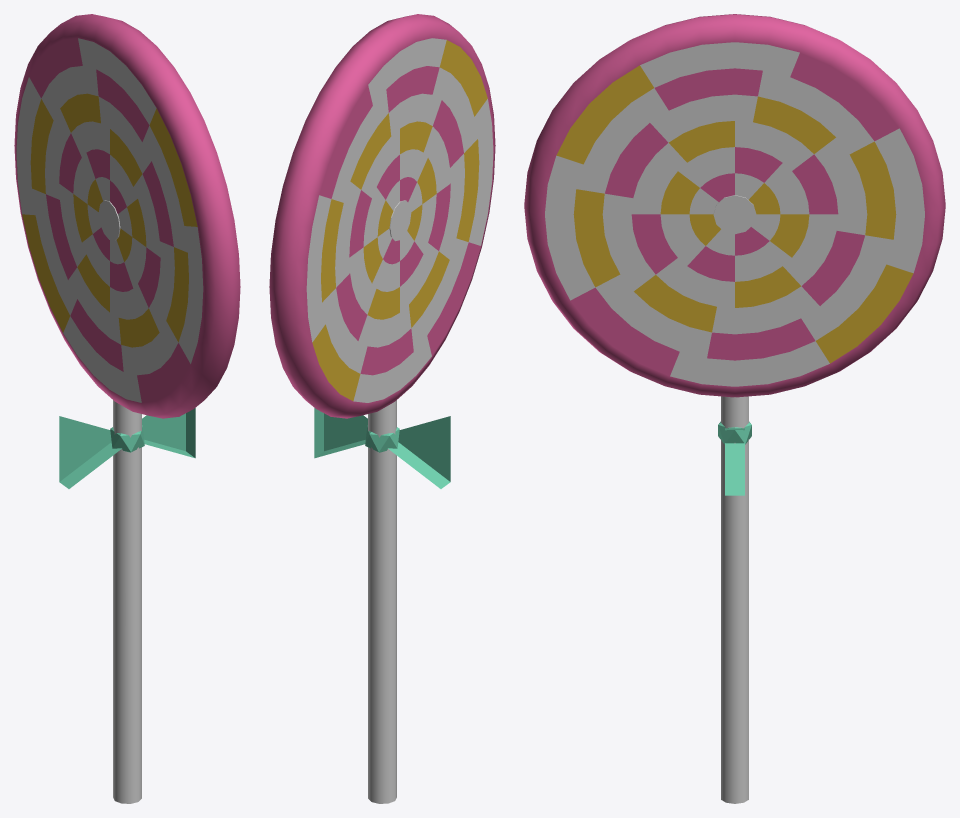
Rendered from candy_1.glb.
3 views of the same model, side by side, from view 1: azimuth 30°, elevation 25°; view 2: azimuth 150°, elevation 25°; view 3: azimuth 270°, elevation 25° (orthographic).
Visible parts, largest first — view 1: Candy, Stick; view 2: Candy, Stick; view 3: Candy, Stick.
Boxes of the visible parts, left/top/right/bottom form: Candy: left=14, top=14, right=240, bottom=418; Stick: left=59, top=400, right=195, bottom=803; Candy: left=269, top=14, right=495, bottom=418; Stick: left=314, top=400, right=450, bottom=803; Candy: left=524, top=14, right=945, bottom=397; Stick: left=718, top=396, right=751, bottom=803.
Bounding box in the file's own units: 1.8 × 10.45 × 5.1.
